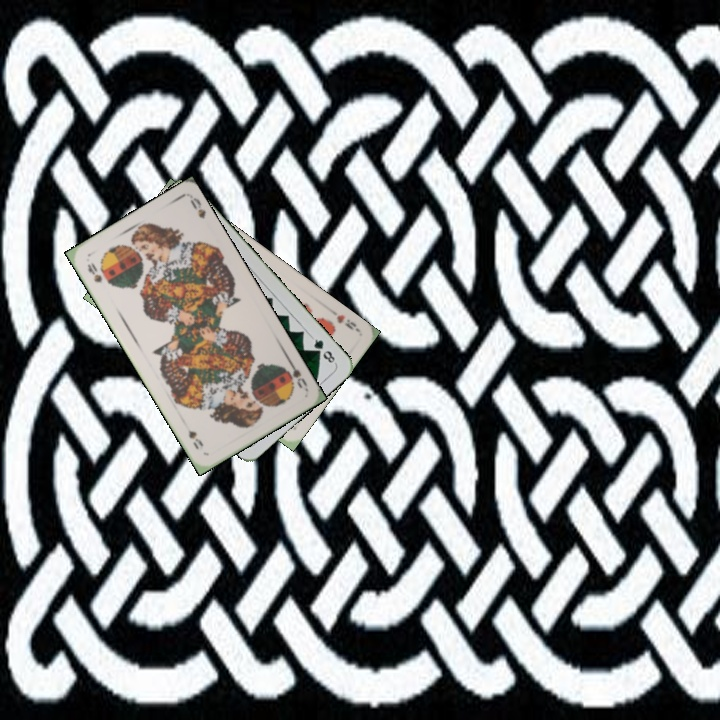G8: (307, 333, 338, 366)
H9: (326, 305, 361, 334)
SO: (279, 355, 310, 392), (83, 258, 105, 286)
